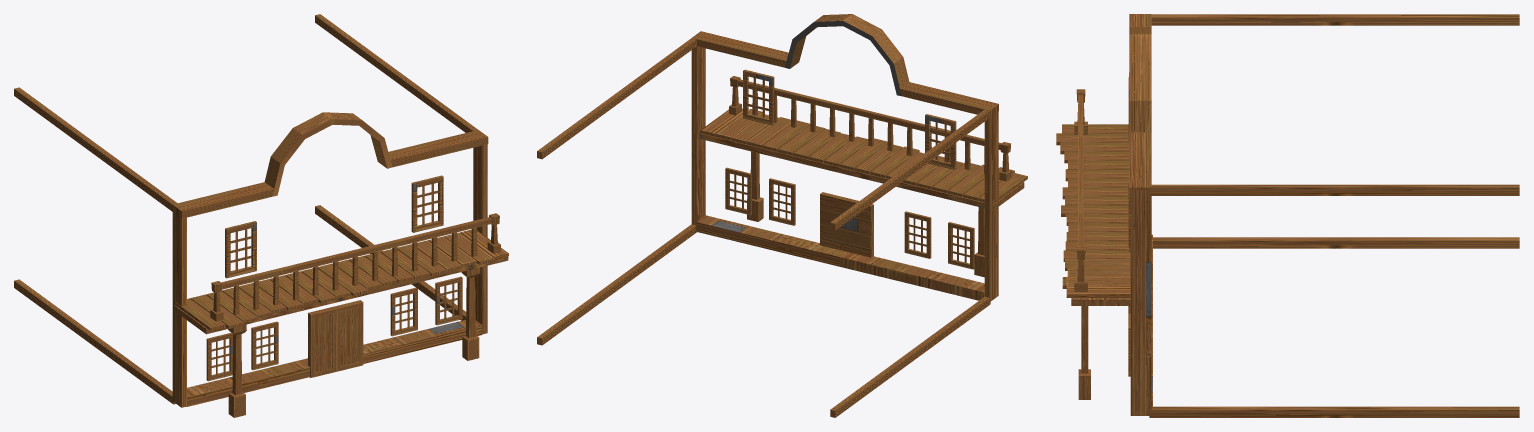
3 renders of one model, left to right at view 1: azimuth 30°, elevation 25°; view 2: azimuth 150°, elevation 25°; view 3: azimuth 270°, elevation 25°, orthographic. The views are drawn at different scales.
Parts seen in each view (by area): view 1: Cube.321; view 2: Cube.321; view 3: Cube.321.
Part boxes in pixels (<box>): Cube.321: <box>14,14,508,417</box>; Cube.321: <box>537,14,1027,417</box>; Cube.321: <box>1056,14,1519,417</box>.
Bounding box in the file's own units: 1327 × 1052 × 1493.
